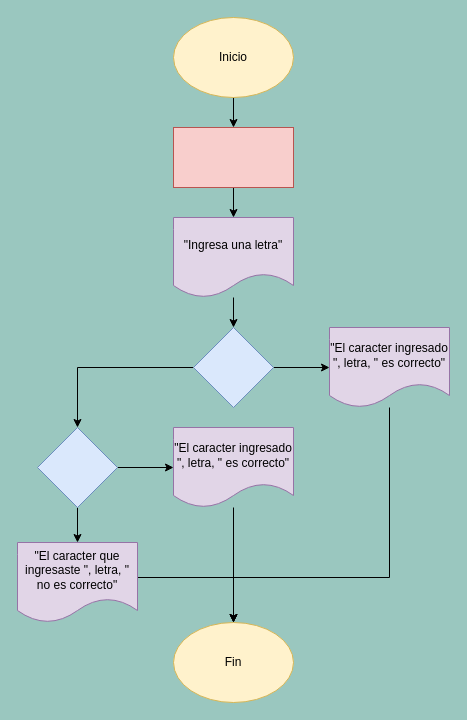
Some shapes in this 467 by 720 pixel diagram are drawn without their labels. The shapes that lost their labels are listed below. From the top down, each one's centre as x and y in pixels, then its label:
pixel 233 157: letra="0"
pixel 233 367: letra=="s"
pixel 77 467: letra=="n"
